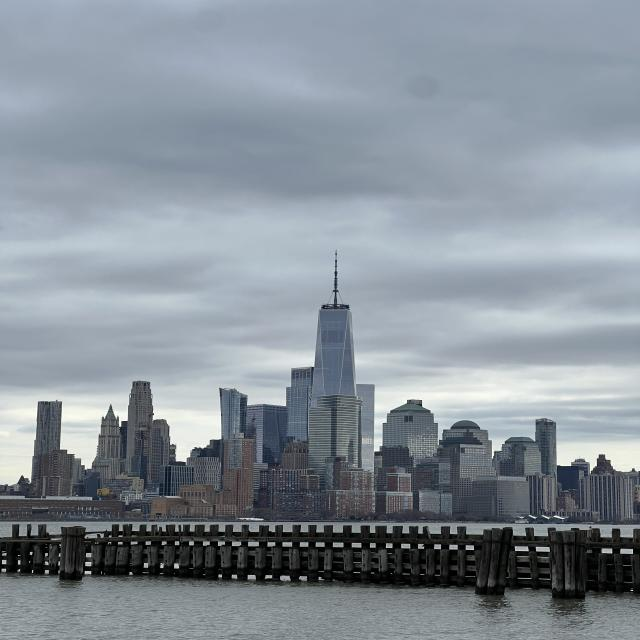WTC: (312, 250, 357, 395)
